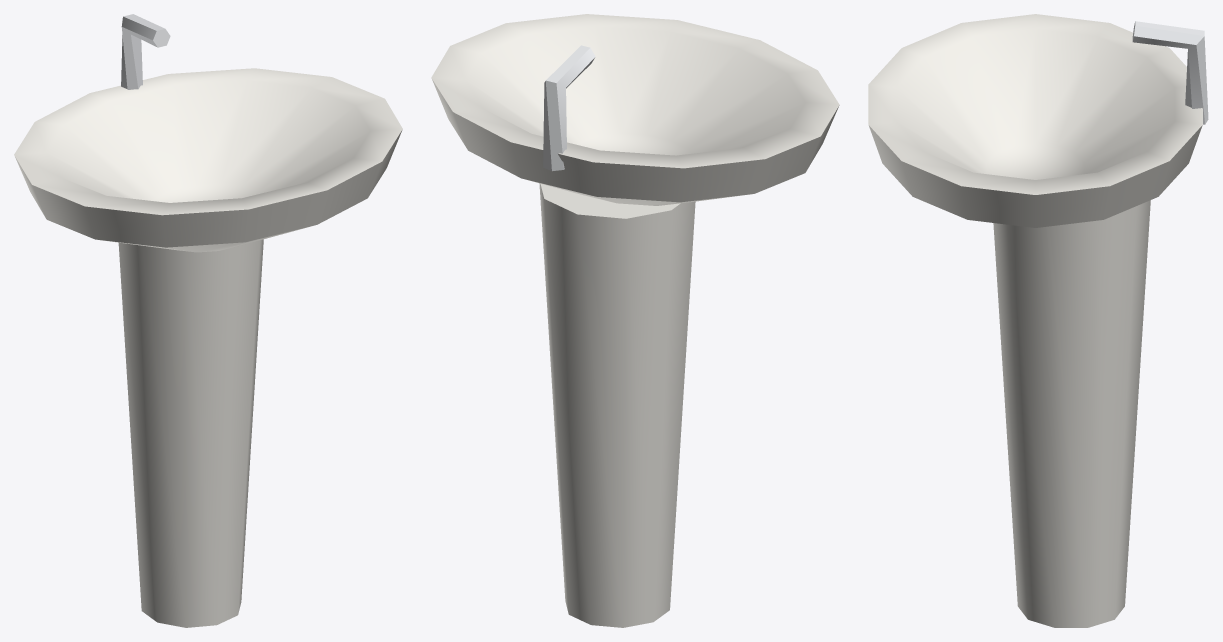
File: BathroomSink.fbx
3 views of the same model, side by side, from view 1: azimuth 30°, elevation 25°; view 2: azimuth 150°, elevation 25°; view 3: azimuth 270°, elevation 25° (orthographic). The views are drawn at different scales.
Parts seen in each view (by area): view 1: BathroomSink; view 2: BathroomSink; view 3: BathroomSink.
Boxes of the visible parts, <box> form: BathroomSink: <box>14,14,402,627</box>; BathroomSink: <box>431,14,839,627</box>; BathroomSink: <box>868,14,1208,627</box>.
Bounding box in the file's own units: 2.4 × 3.6 × 1.9.
1 material, 1 textured.
